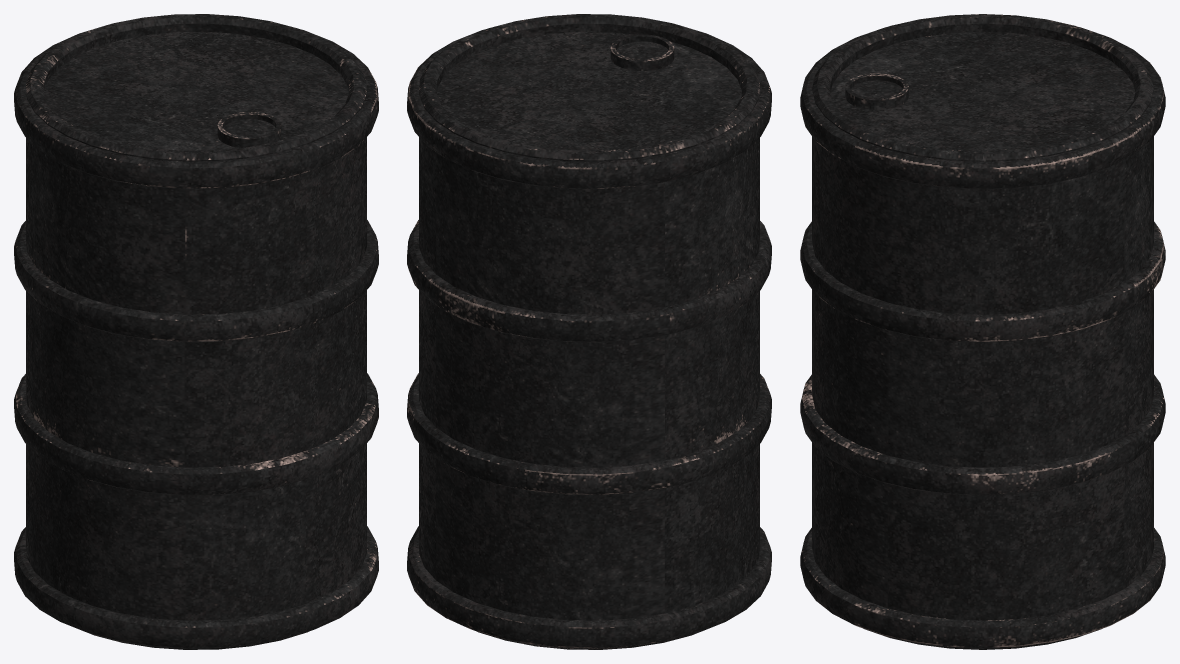
Rendered from oil_barrel.fbx.
3 renders of one model, left to right at view 1: azimuth 30°, elevation 25°; view 2: azimuth 150°, elevation 25°; view 3: azimuth 270°, elevation 25°, orthographic.
Parts seen in each view (by area): view 1: Cylinder.002; view 2: Cylinder.002; view 3: Cylinder.002.
Part boxes in pixels (bbox=[...]): Cylinder.002: bbox=[14, 14, 378, 649]; Cylinder.002: bbox=[407, 14, 771, 649]; Cylinder.002: bbox=[800, 14, 1165, 649].
Size of the model in its own units: 75.08 by 112 by 75.08.
